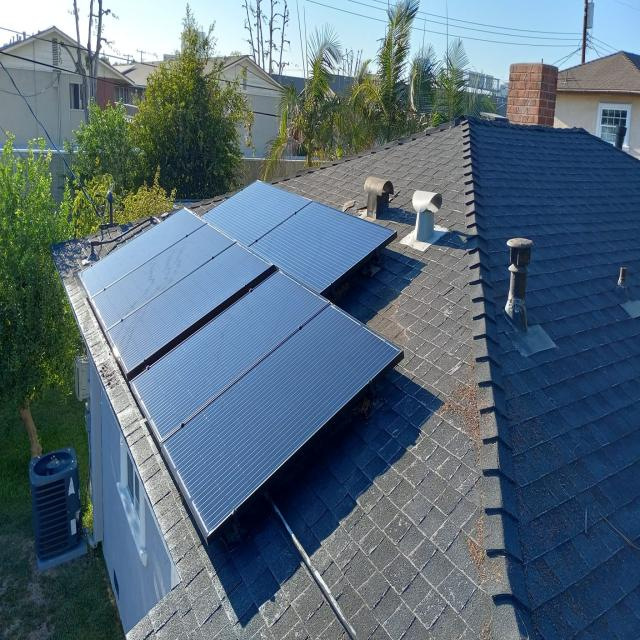clean-solar-panel: (81, 182, 401, 538)
